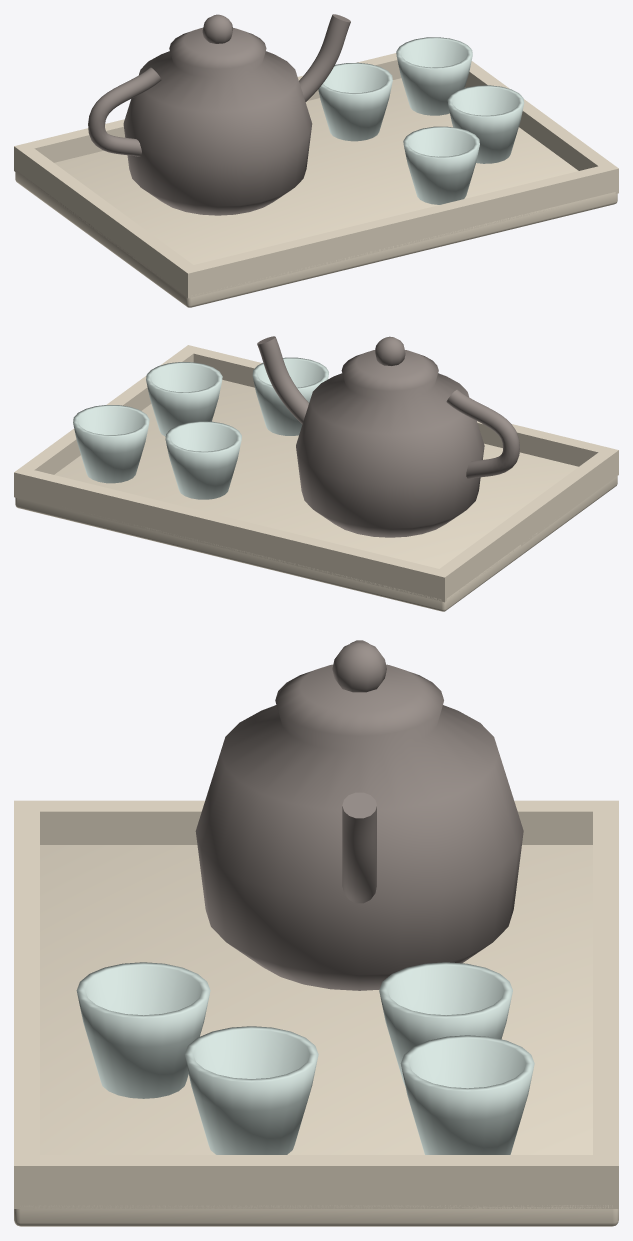
The model's file is sg_tea_set.glb.
3 views of the same model, one above another, from view 1: azimuth 30°, elevation 25°; view 2: azimuth 150°, elevation 25°; view 3: azimuth 270°, elevation 25° (orthographic). The views are drawn at different scales.
Visible parts, largest first — view 1: tray, pot_body, rim, cup0, cup2, cup3, cup1, pot_handle, pot_spout, pot_knob; view 2: tray, pot_body, rim, cup2, cup3, cup1, cup0, pot_handle, pot_spout, pot_knob; view 3: tray, pot_body, rim, cup0, cup1, cup3, cup2, pot_spout, pot_knob.
Boxes of the visible parts, x1=… form: tray: x1=15, y1=78, x2=617, y2=307; pot_body: x1=123, y1=27, x2=312, y2=215; rim: x1=14, y1=53, x2=618, y2=298; cup0: x1=403, y1=126, x2=479, y2=204; cup2: x1=318, y1=62, x2=392, y2=141; cup3: x1=396, y1=37, x2=472, y2=115; cup1: x1=447, y1=85, x2=524, y2=163; pot_handle: x1=88, y1=67, x2=161, y2=156; pot_spout: x1=299, y1=14, x2=350, y2=101; pot_knob: x1=202, y1=14, x2=233, y2=43; tray: x1=15, y1=380, x2=617, y2=611; pot_body: x1=296, y1=350, x2=484, y2=537; rim: x1=14, y1=345, x2=618, y2=602; cup2: x1=165, y1=421, x2=241, y2=499; cup3: x1=73, y1=405, x2=149, y2=483; cup1: x1=146, y1=362, x2=222, y2=436; cup0: x1=252, y1=357, x2=328, y2=435; pot_handle: x1=446, y1=389, x2=519, y2=478; pot_spout: x1=257, y1=336, x2=308, y2=424; pot_knob: x1=375, y1=336, x2=405, y2=365; tray: x1=14, y1=845, x2=618, y2=1226; pot_body: x1=195, y1=664, x2=523, y2=990; rim: x1=14, y1=800, x2=618, y2=1208; cup0: x1=76, y1=962, x2=210, y2=1098; cup1: x1=184, y1=1026, x2=318, y2=1154; cup3: x1=400, y1=1035, x2=534, y2=1154; cup2: x1=379, y1=962, x2=512, y2=1086; pot_spout: x1=342, y1=792, x2=376, y2=903; pot_knob: x1=332, y1=641, x2=386, y2=692.
Size of the model in its own units: 0.4 by 0.168 by 0.28.
